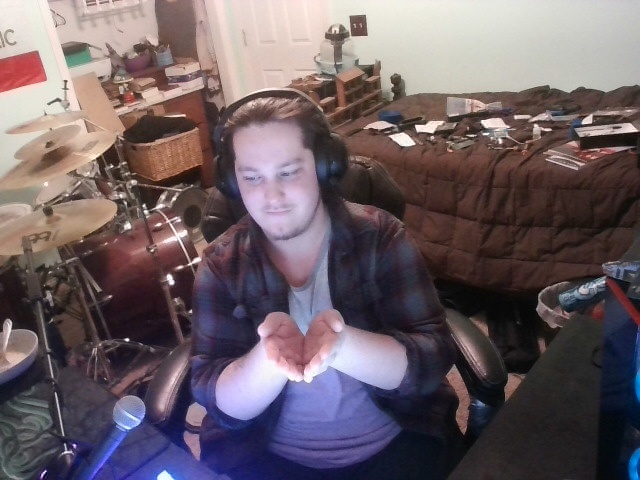book: (238, 302, 368, 392)
